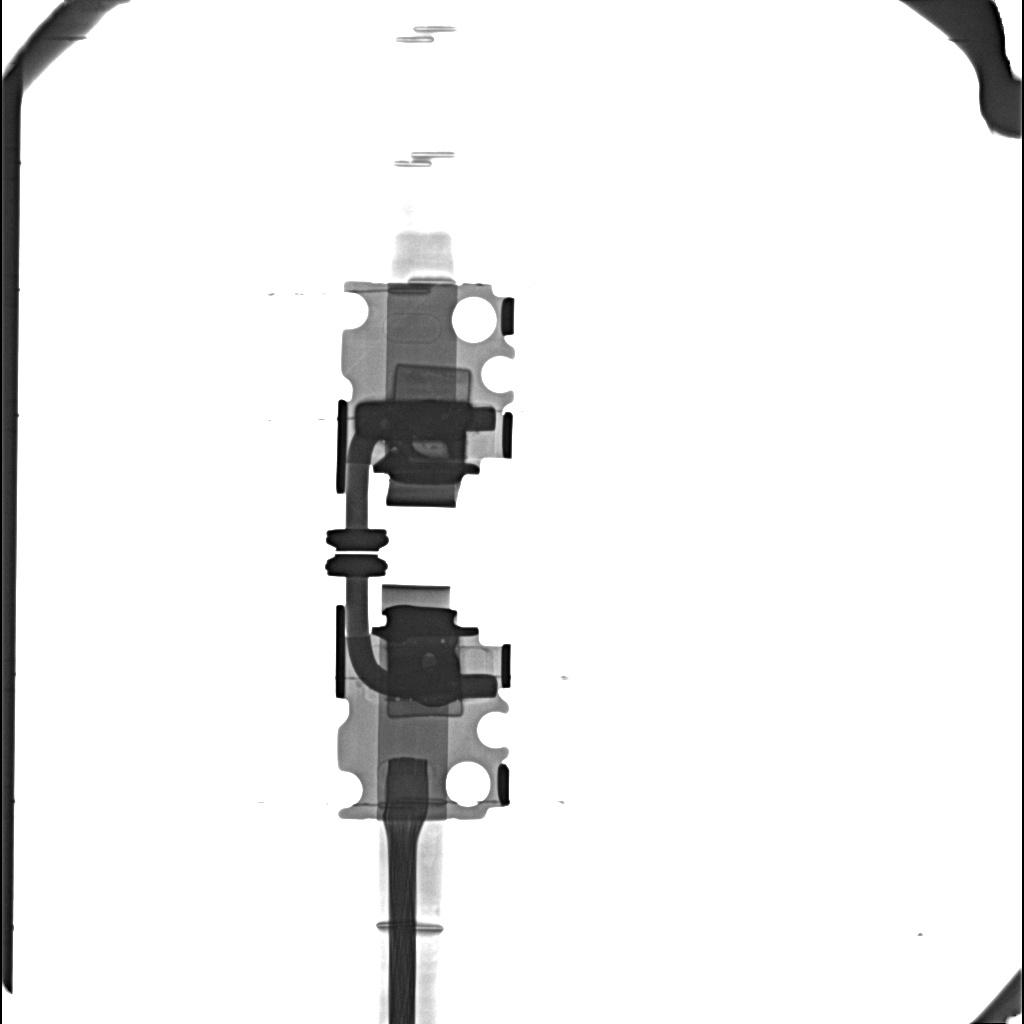PX: (393, 365, 472, 399), (386, 697, 464, 719)
QP: (413, 440, 449, 459)
SX: (355, 401, 471, 438), (388, 655, 462, 696)
